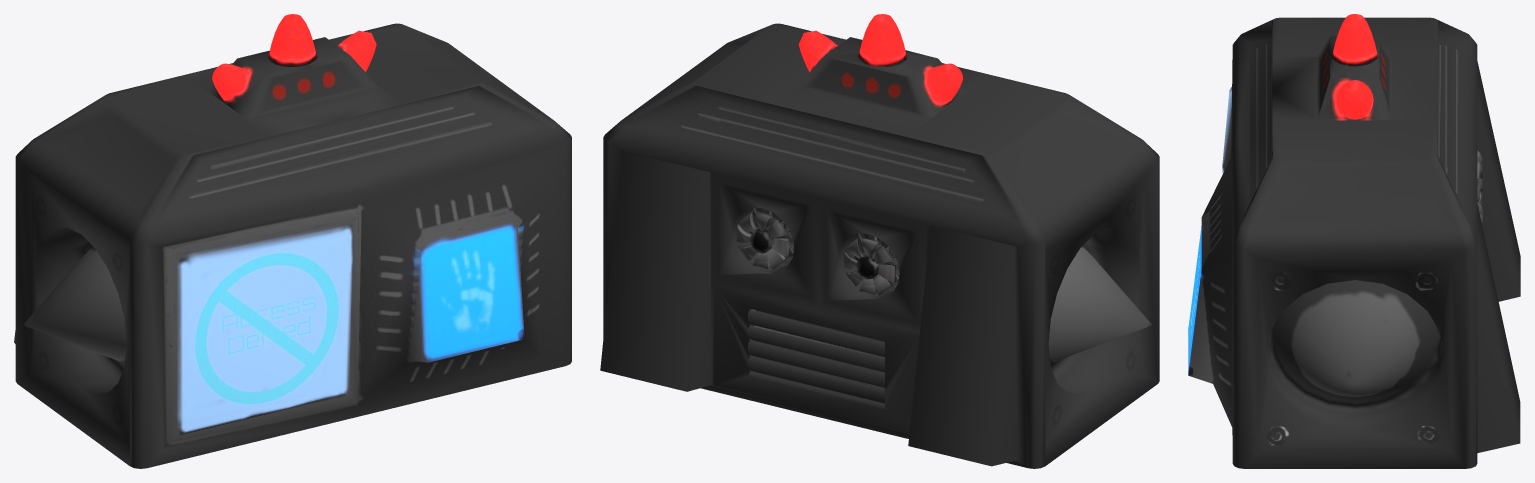
File: IAM_manager.glb
3 renders of one model, left to right at view 1: azimuth 30°, elevation 25°; view 2: azimuth 150°, elevation 25°; view 3: azimuth 270°, elevation 25°, orthographic. The views are drawn at different scales.
Visible parts, largest first — view 1: crate_Low; view 2: crate_Low; view 3: crate_Low.
Part boxes in pixels (<box>): crate_Low: <box>14,14,571,468</box>; crate_Low: <box>600,14,1159,468</box>; crate_Low: <box>1188,14,1520,468</box>.
Bounding box in the file's own units: 2 × 1.29 × 1.1.
1 material, 1 textured.
